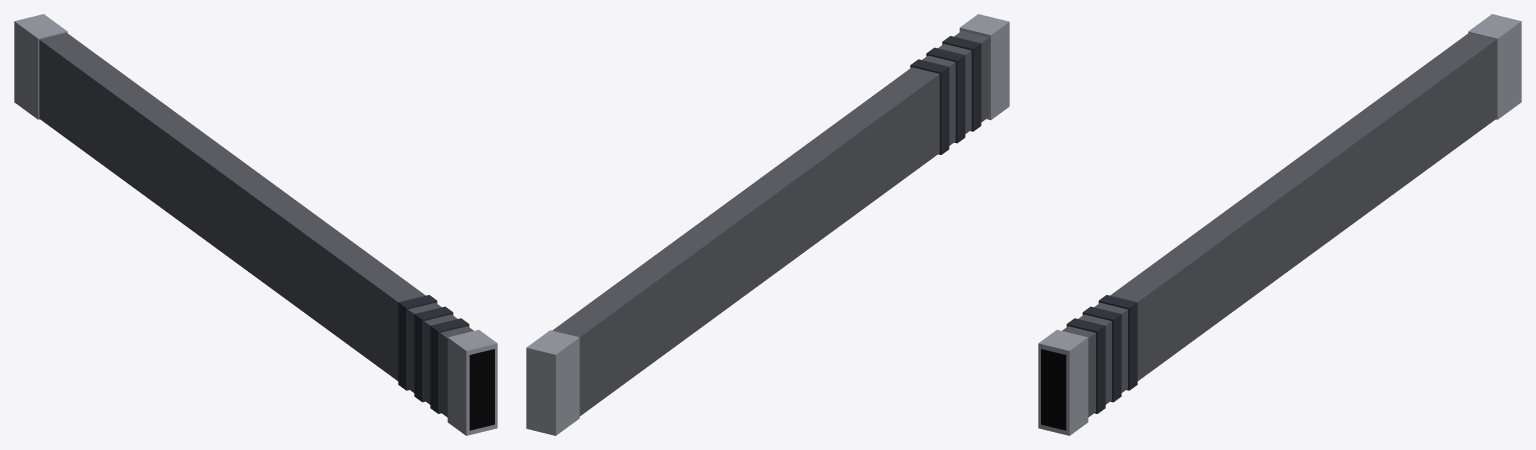
The model's file is hollow_longsword_sheath_with_band.obj.
3 views of the same model, side by side, from view 1: azimuth 30°, elevation 25°; view 2: azimuth 150°, elevation 25°; view 3: azimuth 330°, elevation 25° (orthographic).
Size of the model in its own units: 0.068 by 0.176 by 1.7.
